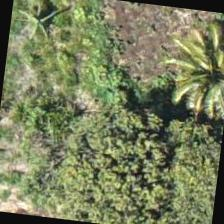Kelapa_Sawit: (175, 25, 223, 122)
